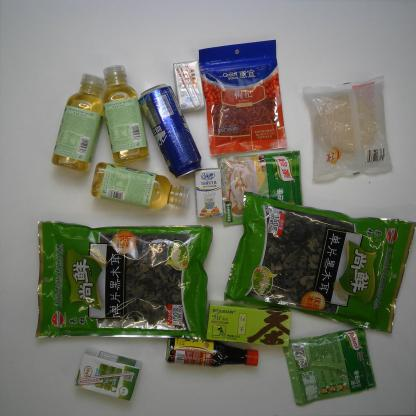Alcohol: (137, 81, 203, 180)
Dessert: (301, 74, 392, 182)
Dried Food: (221, 191, 416, 335), (32, 220, 215, 343)
Dried Fruit: (197, 39, 288, 158)
Drink: (50, 73, 106, 172), (86, 160, 191, 210), (100, 64, 150, 164)
Instant Drink: (205, 298, 294, 350)
Milk: (75, 346, 144, 402), (171, 60, 206, 112), (193, 166, 224, 220)
Seasoner: (280, 326, 377, 408), (216, 149, 304, 228), (163, 332, 259, 367)
